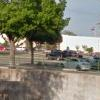Tree: (4, 2, 68, 57)
